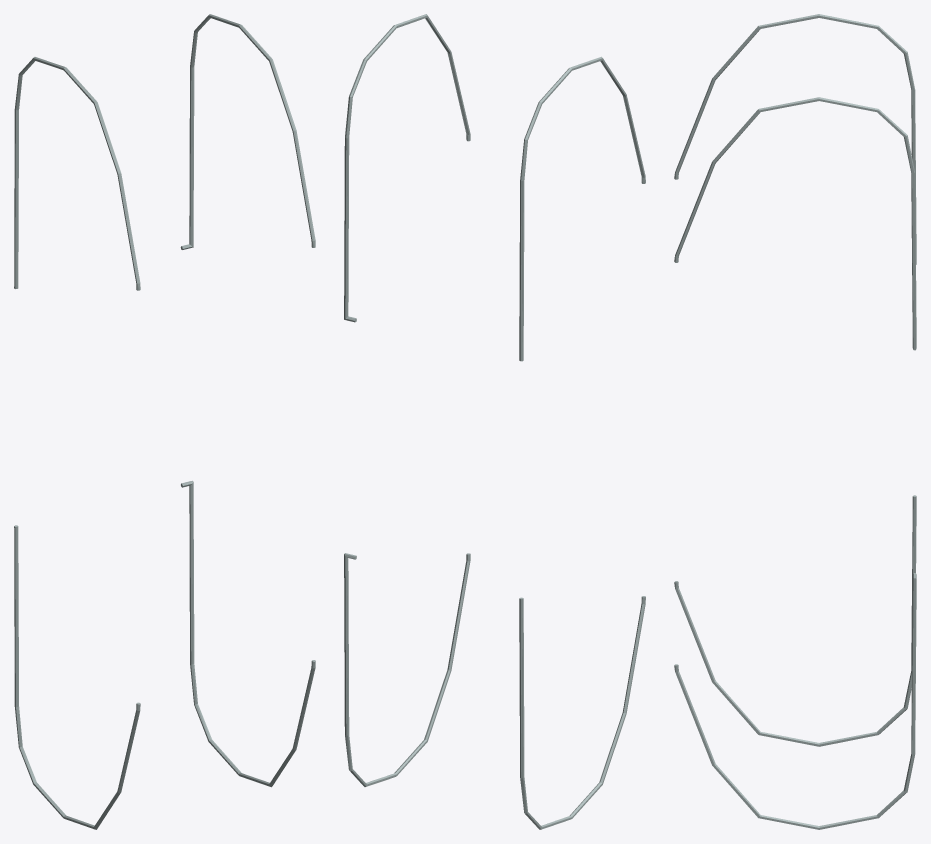
Rendered from xt041-geode.glb.
The picture shows the model from 3 angles, left to right: view 1: azimuth 30°, elevation 25°; view 2: azimuth 150°, elevation 25°; view 3: azimuth 270°, elevation 25°; orthographic projection. The views are drawn at different scales.
Parts seen in each view (by area): view 1: Node; view 2: Node; view 3: Node.
Part boxes in pixels (left/top/right/bottom): Node: left=14, top=14, right=315, bottom=829; Node: left=344, top=14, right=645, bottom=829; Node: left=674, top=14, right=916, bottom=829.
Size of the model in its own units: 0.2953 by 1.19 by 0.3569.
Materials: 1 (1 with a texture image).
